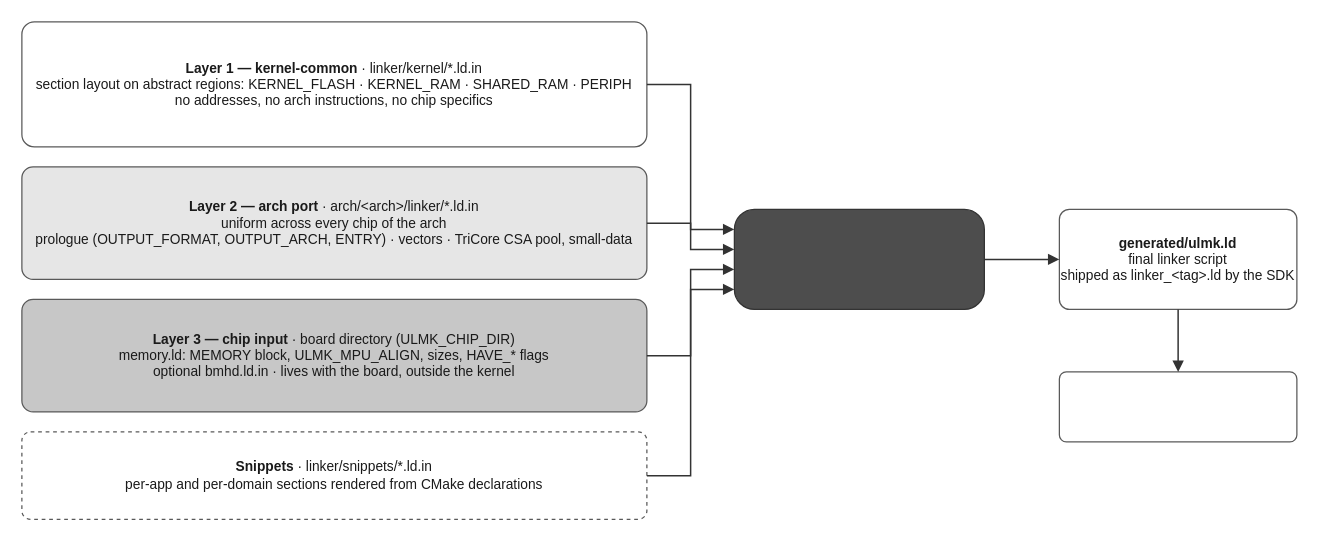
Image size: 1319x541. Some labels were removed from this diagram. Here are the shapes that lost their labels. From the top down, the centre of each, then its label:
At (x=858, y=258): "cmake/generate_ld.py runs before link".
At (x=1177, y=406): "ld → ulmk ELF".
